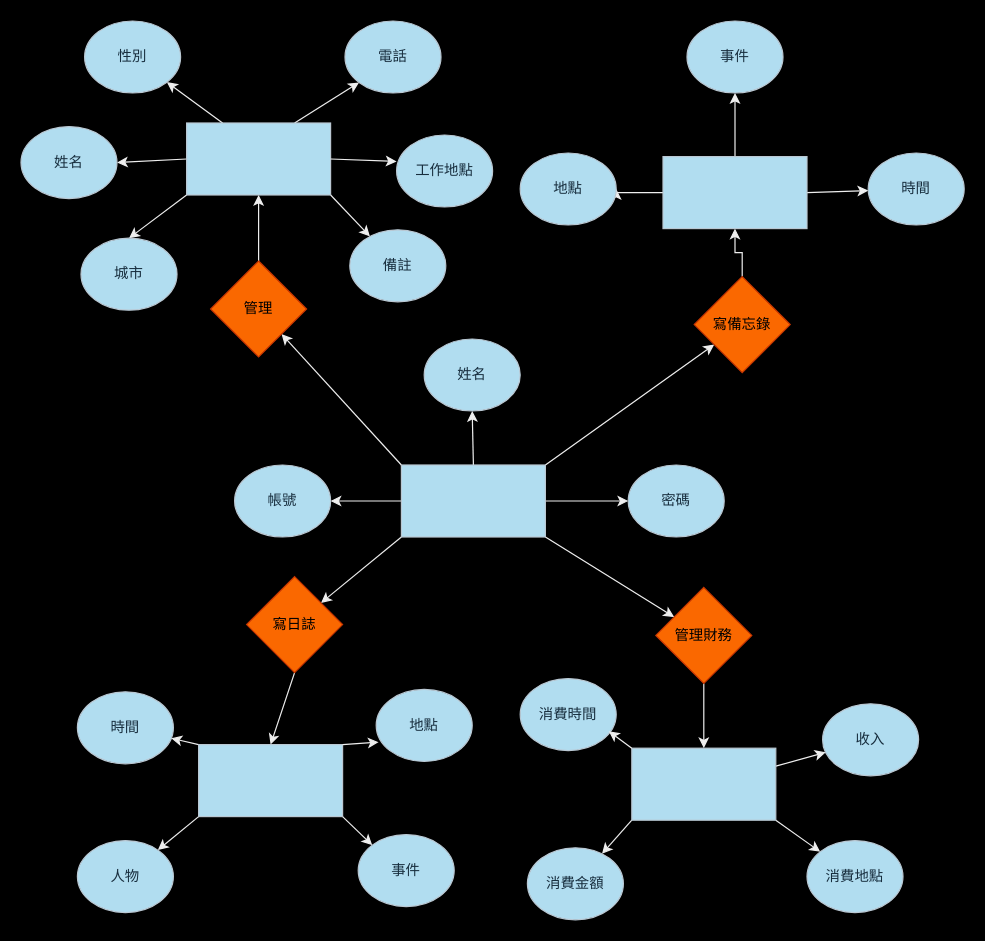
The diagram is 985 pixels wide and 941 high, and some of its shapes have lost their labels. The shapes that lost their labels are listed below. From the top down, each one's box as (x1, y1, x2, y2) in pixels, then its label:
(185, 122, 331, 195): 通訊錄
(662, 155, 807, 229): 備忘錄
(400, 464, 545, 537): 用戶
(197, 743, 343, 817): 日記
(631, 747, 776, 820): 個人財務
